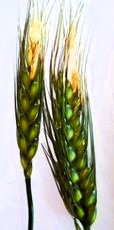Wheat scab: (49, 18, 100, 225)
